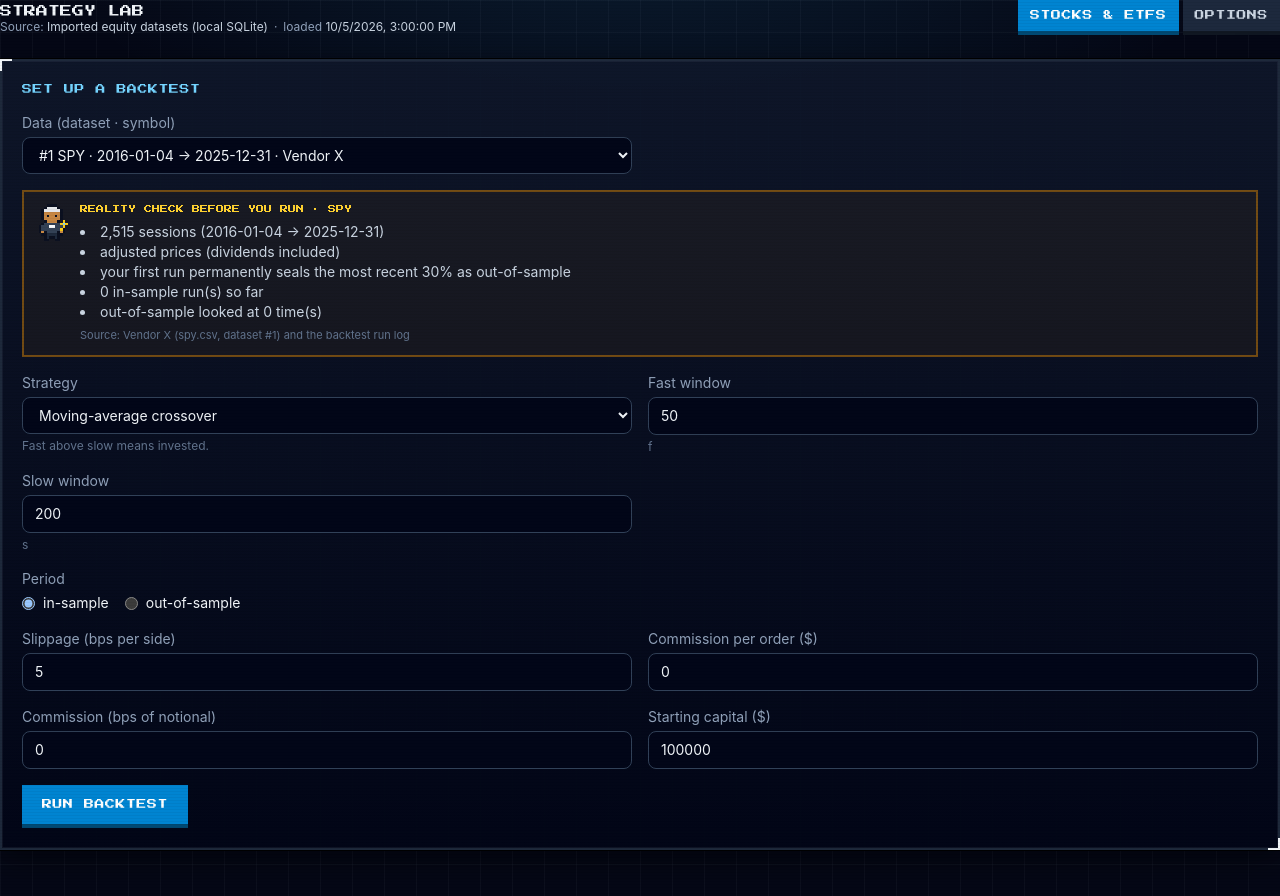
Options lab › shows options strategies only, with a pre-run reality check
Click the tab "Options" at [1231, 18], box [1182,0,1279,35]
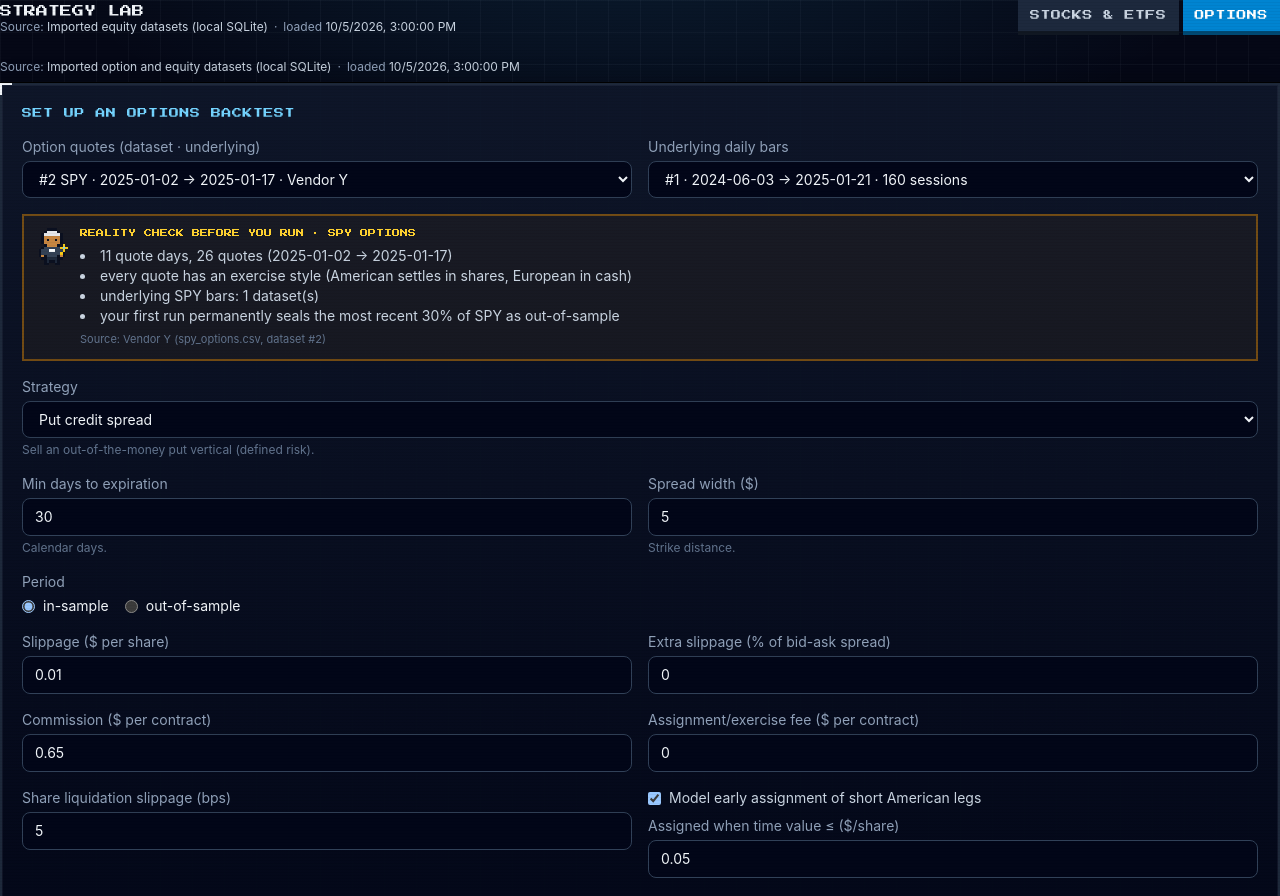
Result: the element labelled "Reality check before you run" shows "every quote has an exercise style" at [100,267,632,284]
Result: the element labelled "Reality check before you run" shows "underlying SPY bars: 1 dataset(s)" at [100,287,319,304]
Result: the number field labelled "Commission ($ per contract)" holds "0.65" at [22,734,632,772]
